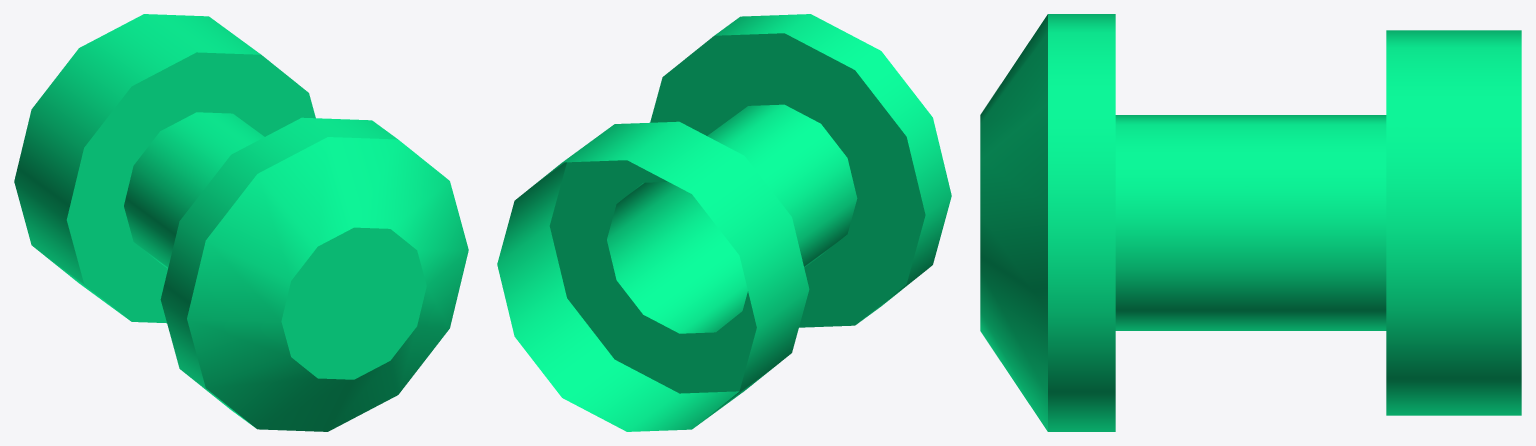
File: handle.fbx
3 renders of one model, left to right at view 1: azimuth 30°, elevation 25°; view 2: azimuth 150°, elevation 25°; view 3: azimuth 270°, elevation 25°, orthographic. The views are drawn at different scales.
Parts seen in each view (by area): view 1: handle; view 2: handle; view 3: handle.
Part boxes in pixels (bbox=[...]): handle: bbox=[14, 14, 468, 431]; handle: bbox=[497, 14, 951, 431]; handle: bbox=[980, 14, 1521, 431].
Size of the model in its own units: 0.124 by 0.124 by 0.16.
